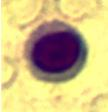lymphocyte: (18, 20, 90, 84)
